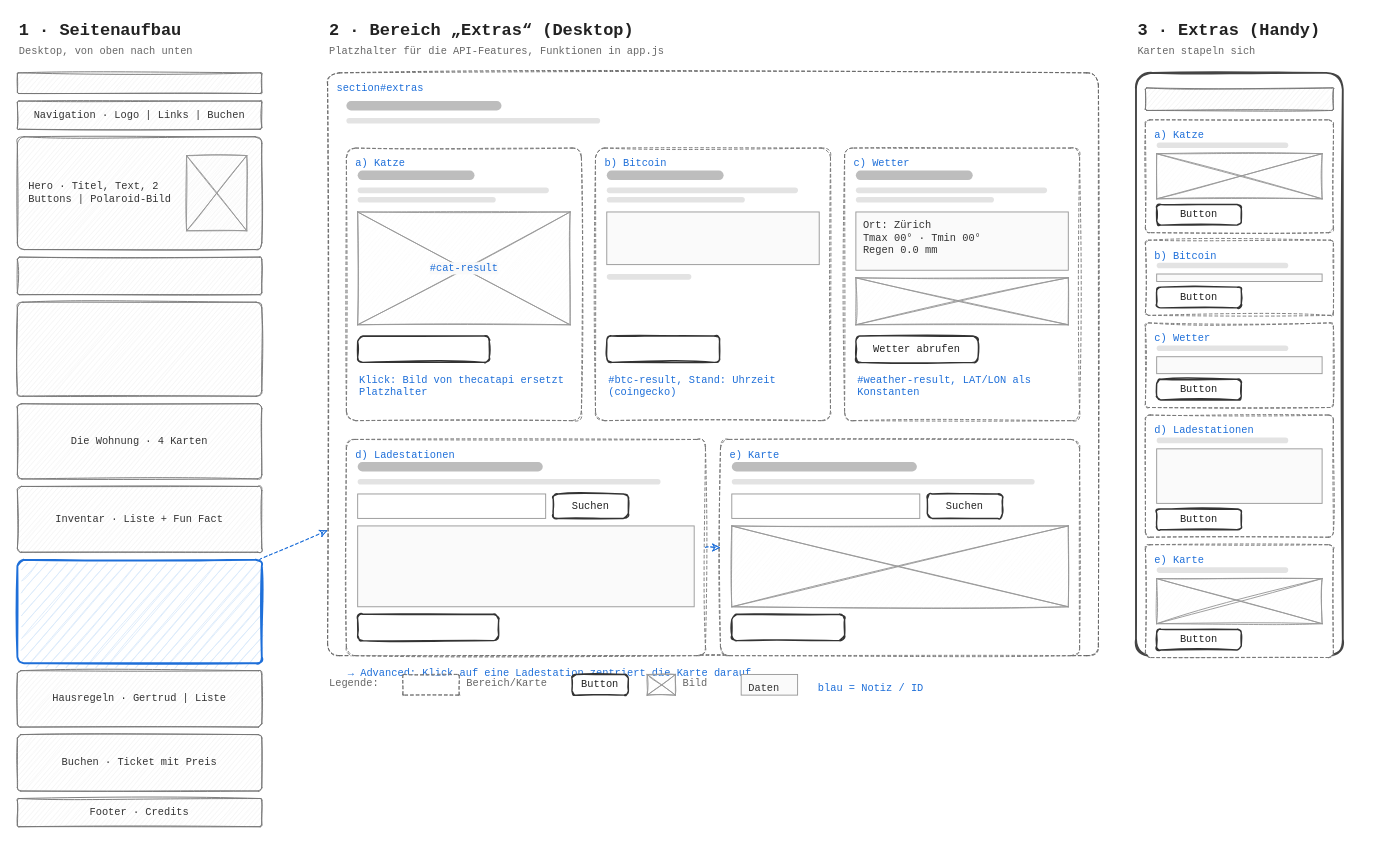
This 1396x843 diagram has some shape labels left out. Each missing label, with the centre of its shape:
#map (Leaflet): point (899, 566)
1. Name, Adresse · 0.0 km 2. Name, Adresse · 0.0 km 3. … 4. … 5. …: point (525, 566)
Extras · 5 API-Features → Detail: point (139, 611)
Galerie · 5 Polaroids, Lightbox: point (139, 348)
Karte zeigen: point (788, 627)
Katze anfordern: point (423, 349)
Kennzahlen · 4 Zahlen: point (139, 275)
Kurs laden: point (663, 349)
Laufband (Ticker): point (139, 83)
optional: Chart 5 Tage: point (961, 301)
Ort ____: point (825, 505)
PLZ ____: point (451, 505)
USD 00'000.– CHF 00'000.–: point (712, 238)
Winterthur suchen: point (428, 627)
☰ Wohnung 4b: point (1238, 98)
